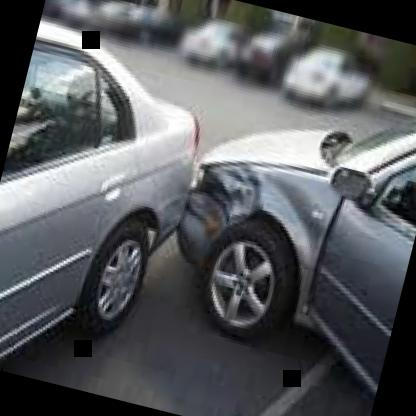accident: (0, 23, 416, 415)
